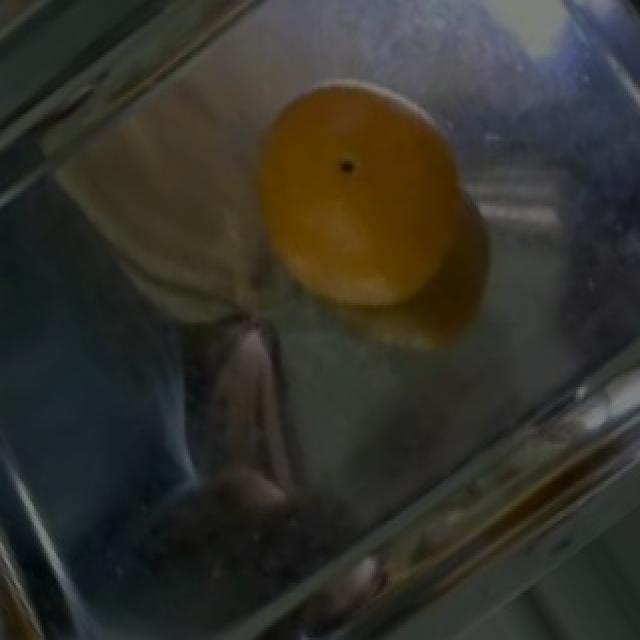Fruit: (236, 67, 496, 335)
